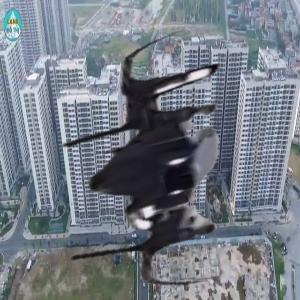drone: (28, 33, 295, 300)
